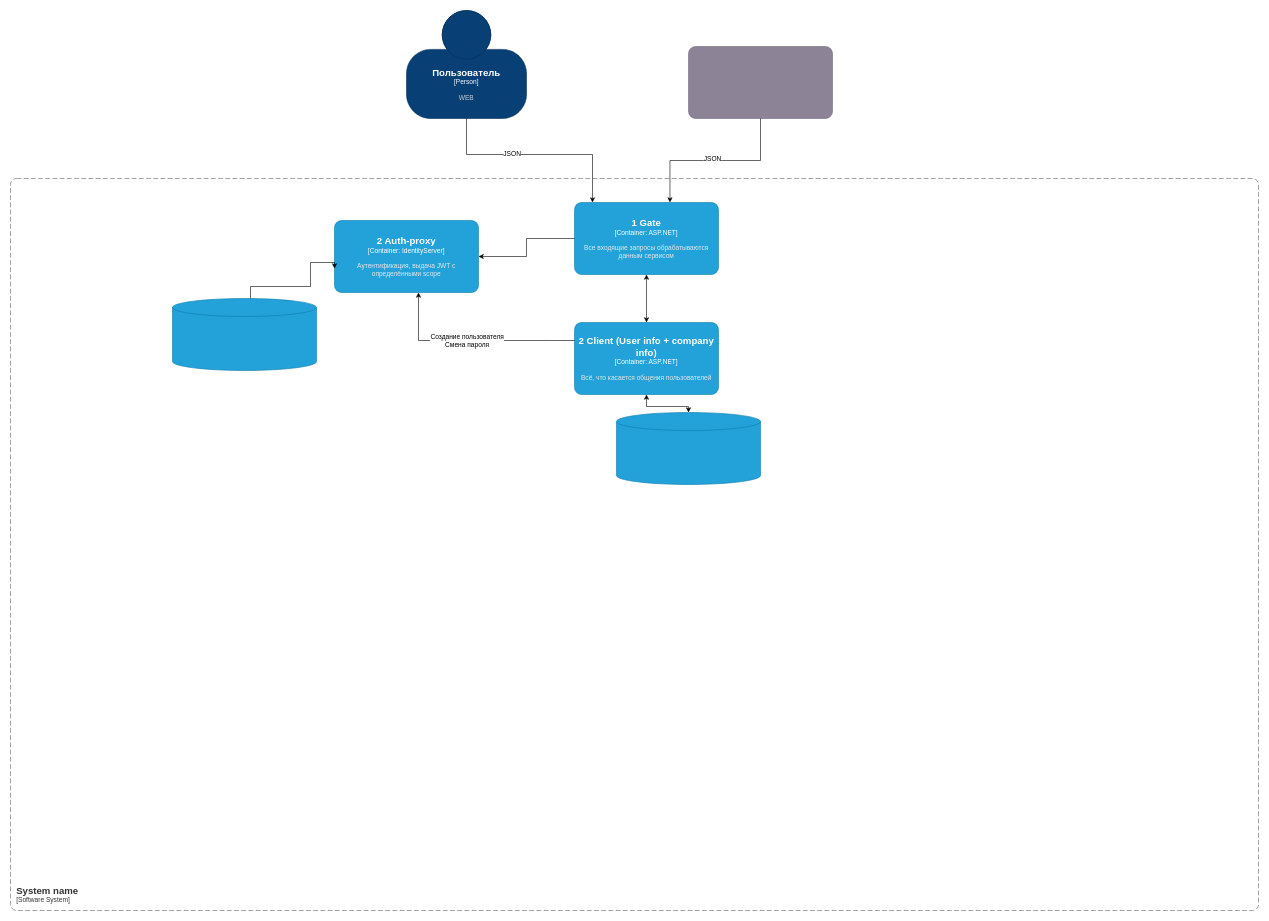
Some shapes in this 1269 by 921 pixel diagram are drawn without their labels. The shapes that lost their labels are listed below. From the top down, each one's centre as x and y in pixels, then its label:
At pixel 760 82: "CRM-системы партнёров [Software System] REST API".
At pixel 244 334: "Auth DB [Container: Postgred]".
At pixel 688 448: "Client DB [Container: Postgres]".
